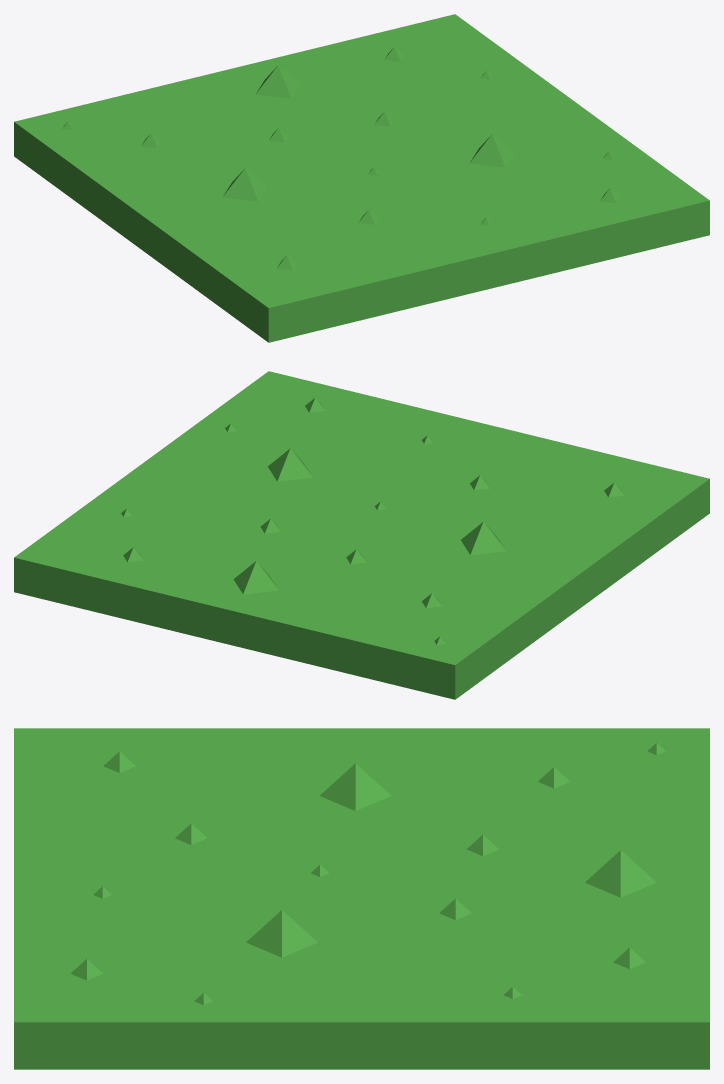
Rendered from Floor-Outdoor-4x4x1-Grass.FBX.
3 views of the same model, one above another, from view 1: azimuth 30°, elevation 25°; view 2: azimuth 150°, elevation 25°; view 3: azimuth 270°, elevation 25° (orthographic). The views are drawn at different scales.
Parts seen in each view (by area): view 1: Floor-Outdoor-4x4x1-Grass; view 2: Floor-Outdoor-4x4x1-Grass; view 3: Floor-Outdoor-4x4x1-Grass.
Part boxes in pixels (x1=…): Floor-Outdoor-4x4x1-Grass: x1=14, y1=14, x2=709, y2=342; Floor-Outdoor-4x4x1-Grass: x1=14, y1=371, x2=709, y2=699; Floor-Outdoor-4x4x1-Grass: x1=14, y1=728, x2=709, y2=1069.
Bounding box in the file's own units: 40 × 5.07 × 40.
